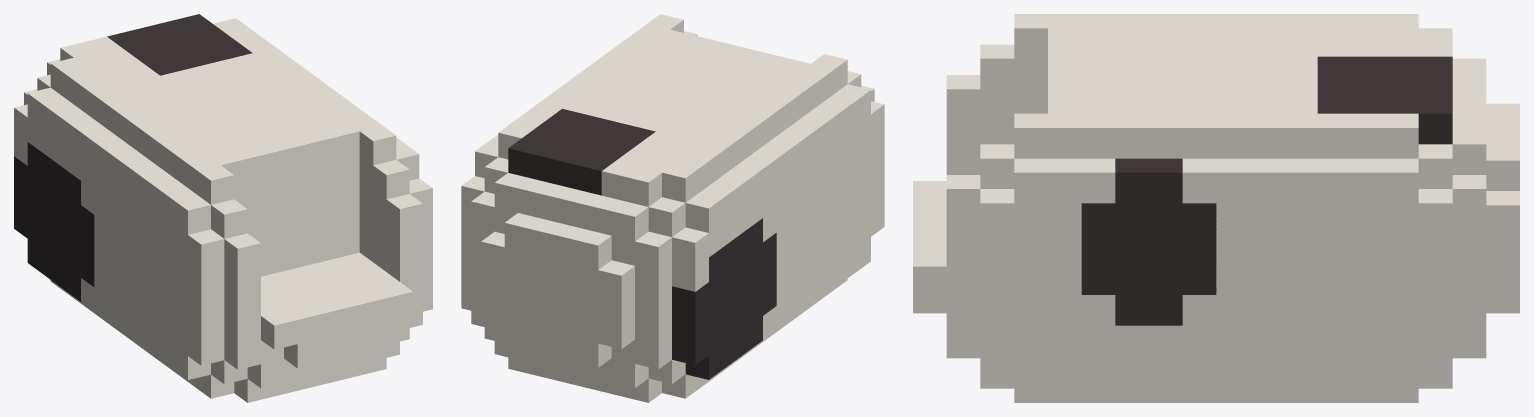
The model's file is calf__body.glb.
3 views of the same model, side by side, from view 1: azimuth 30°, elevation 25°; view 2: azimuth 150°, elevation 25°; view 3: azimuth 270°, elevation 25° (orthographic). The views are drawn at different scales.
Visible parts, largest first — view 1: calf__body; view 2: calf__body; view 3: calf__body.
Part boxes in pixels (x1,y1,x2,y2): calf__body: (14, 14, 432, 402); calf__body: (461, 14, 884, 402); calf__body: (913, 14, 1519, 402).
Bounding box in the file's own units: 1 × 0.9 × 1.8.
Materials: 1 (1 with a texture image).
